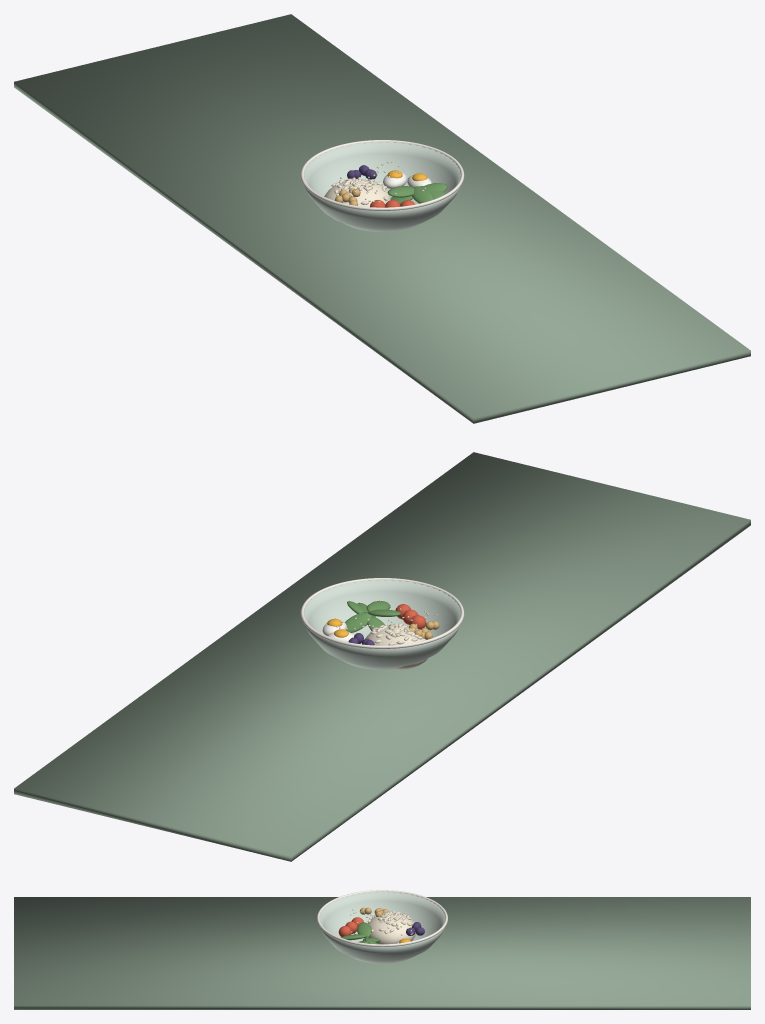
Rendered from props.glb.
3 views of the same model, one above another, from view 1: azimuth 30°, elevation 25°; view 2: azimuth 150°, elevation 25°; view 3: azimuth 270°, elevation 25° (orthographic). The views are drawn at different scales.
Parts seen in each view (by area): view 1: mat, bowl, bowl_rim, food_2_rice, food_1_greens; view 2: mat, bowl, bowl_rim, food_1_greens, food_2_rice; view 3: mat, bowl, food_2_rice, bowl_rim, food_1_greens, food_5_tomato.
Part boxes in pixels (<box>): mat: <box>14,14,750,423</box>; bowl: <box>304,142,460,231</box>; bowl_rim: <box>300,140,464,210</box>; food_2_rice: <box>324,177,390,221</box>; food_1_greens: <box>387,183,447,204</box>; mat: <box>14,452,750,861</box>; bowl: <box>304,580,460,669</box>; bowl_rim: <box>300,578,464,648</box>; food_1_greens: <box>345,601,401,632</box>; food_2_rice: <box>365,623,427,669</box>; mat: <box>14,897,750,1009</box>; bowl: <box>319,891,445,963</box>; food_2_rice: <box>367,910,415,944</box>; bowl_rim: <box>317,890,447,946</box>; food_1_greens: <box>341,922,380,944</box>; food_5_tomato: <box>338,917,363,936</box>.
Bounding box in the file's own units: 0.62 × 0.1025 × 1.78.
